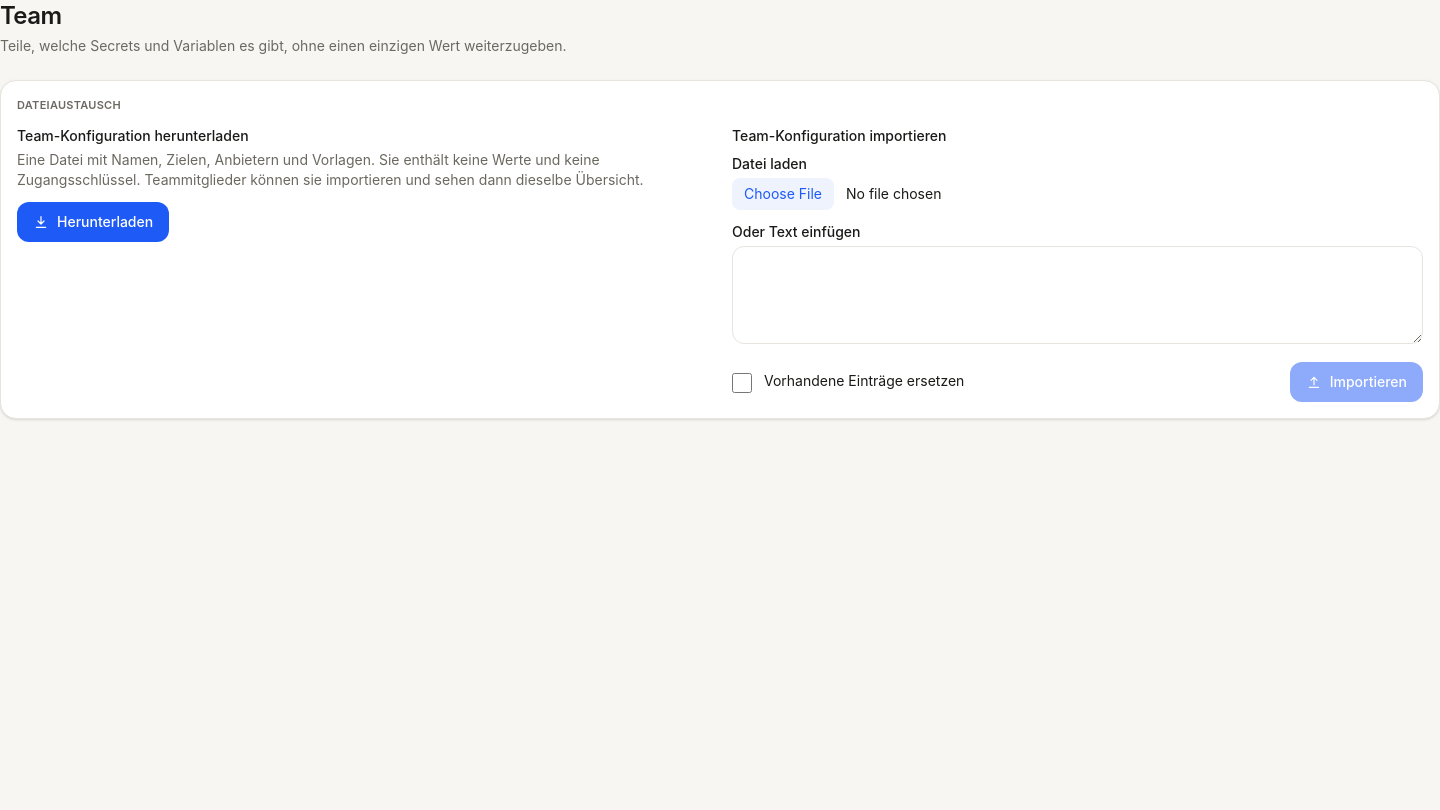
Test case: Team page › asks for confirmation before replacing and can cancel
The width and height of the screenshot is (1440, 810).
Click the text box labelled "Oder Text einfügen" at (1078, 294), box [732,246,1423,344]
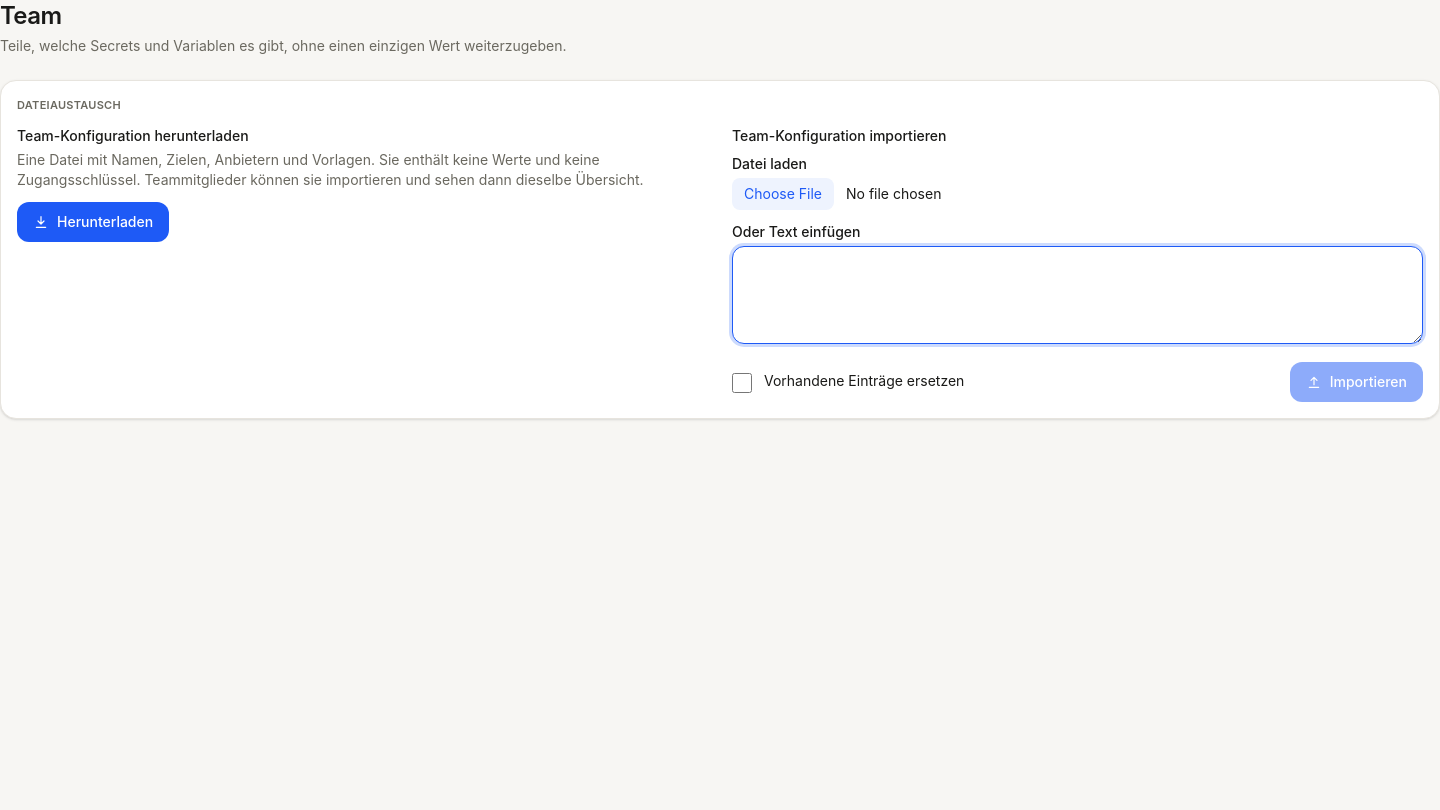
Type keys "x: 1"
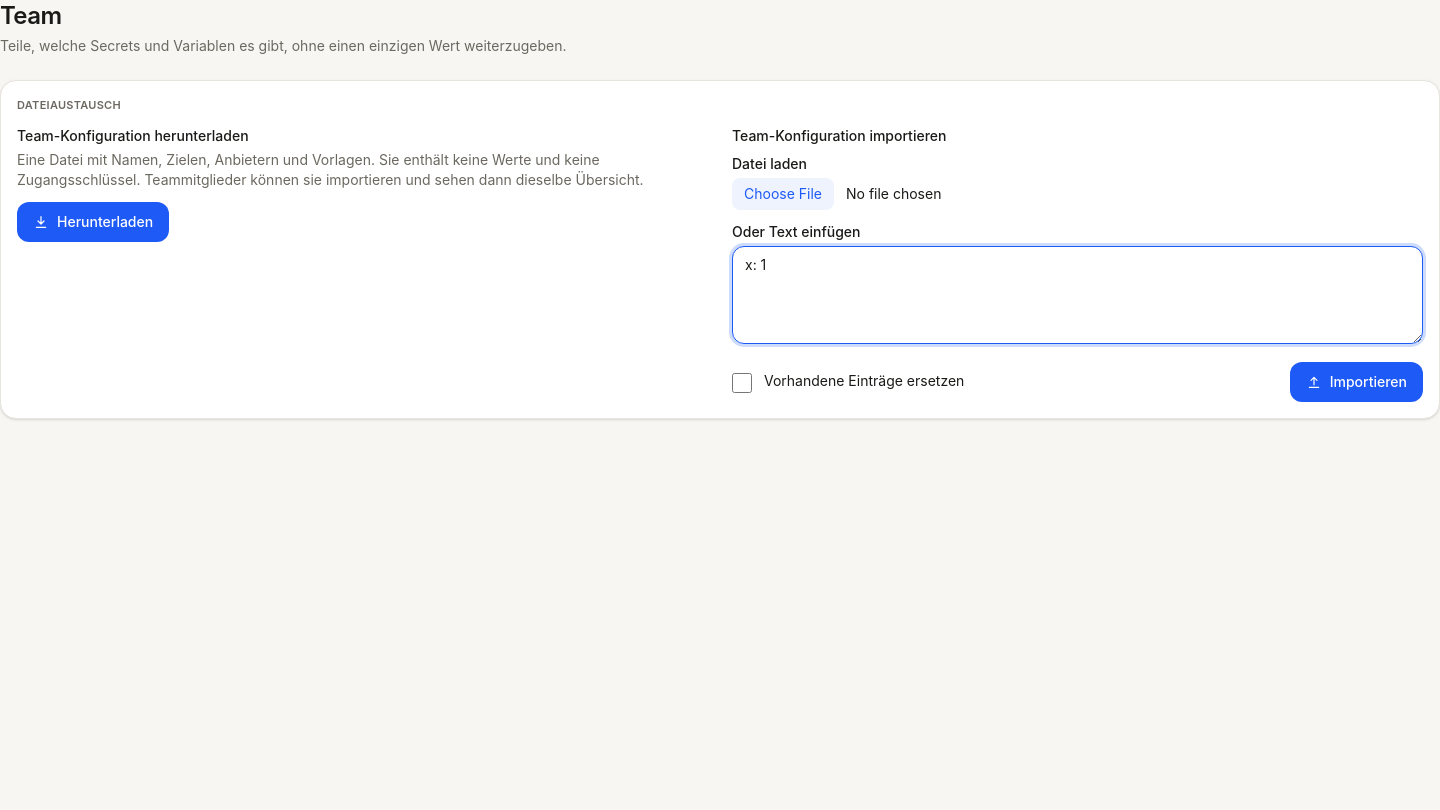
Click the checkbox labelled "Vorhandene Einträge ersetzen" at (742, 382), box [732,372,752,392]
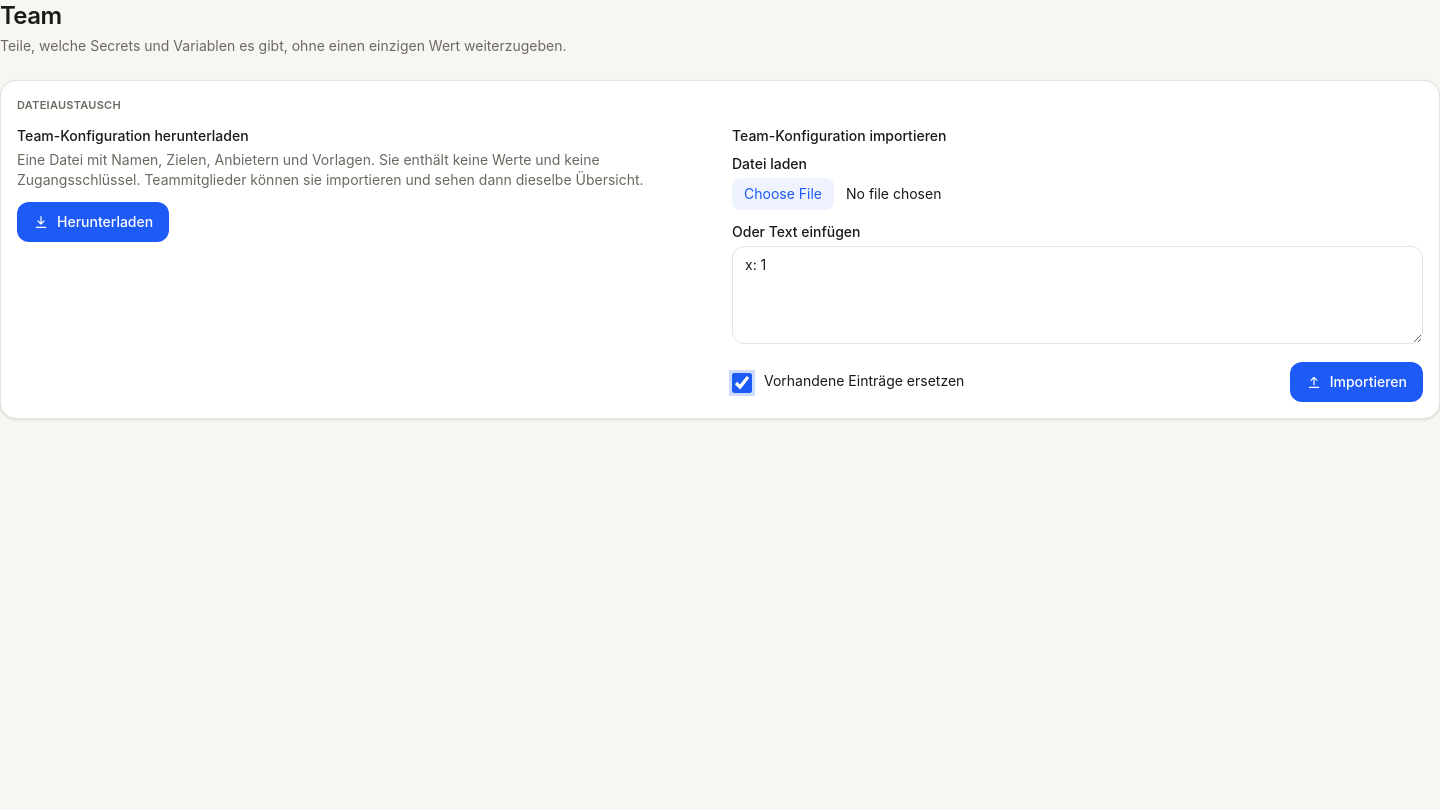
Click the button "Importieren" at (1356, 382), box [1290,362,1423,402]
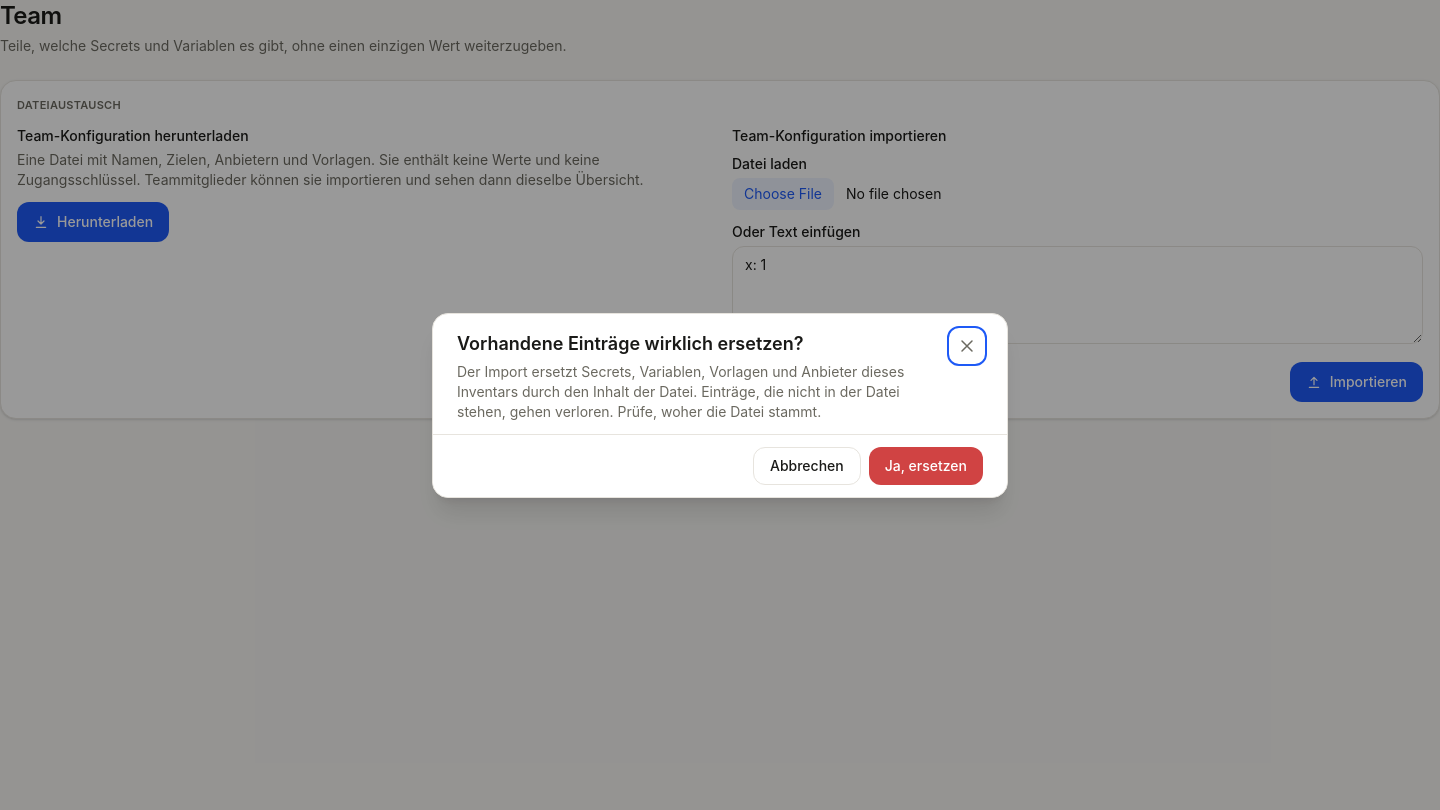
Result: the dialog is shown at [432,312,1008,498]
Click the button "Abbrechen" at (807, 466), box [753,446,861,484]
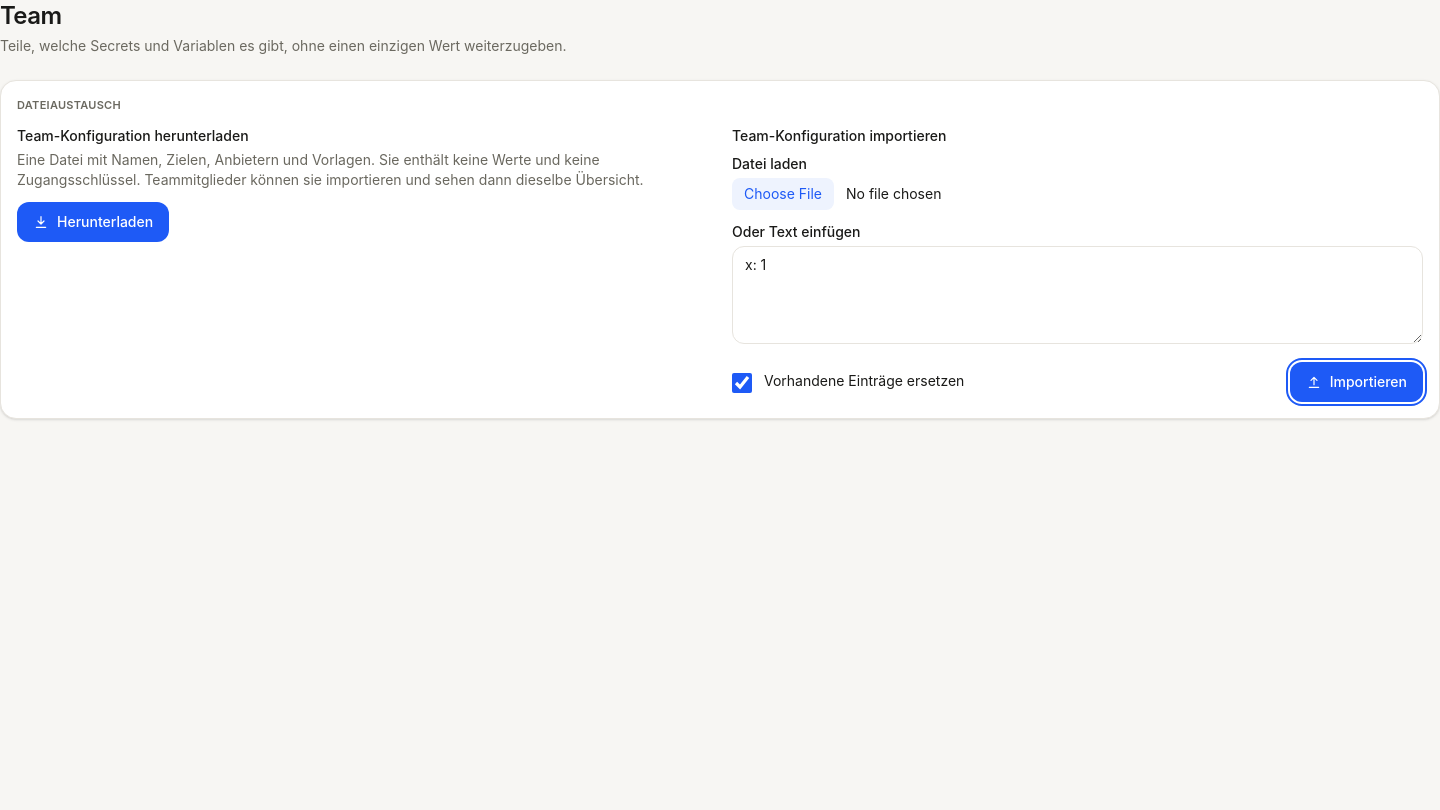
Result: the dialog is gone
